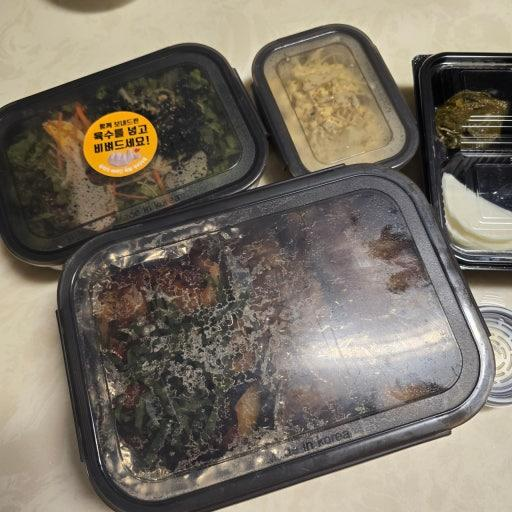Lunch Box: (57, 166, 493, 511), (0, 47, 264, 263), (253, 24, 417, 176), (412, 52, 511, 269)
cup: (479, 305, 511, 406)
